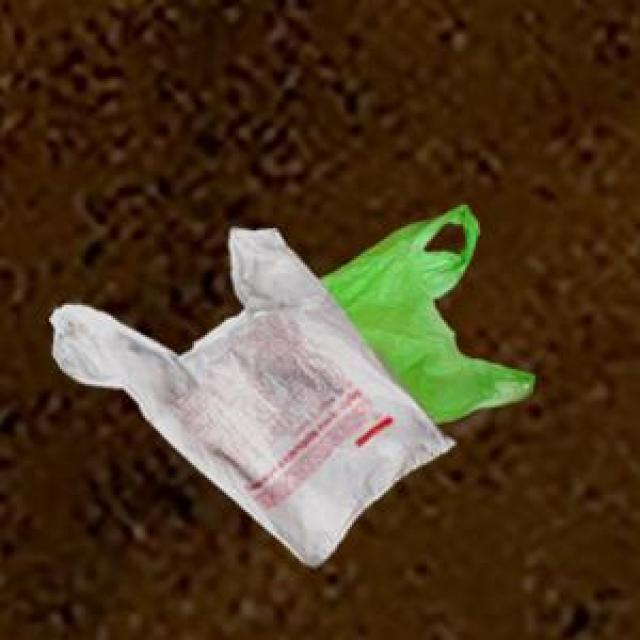Bolsa-de-nilon: (49, 207, 534, 571)
